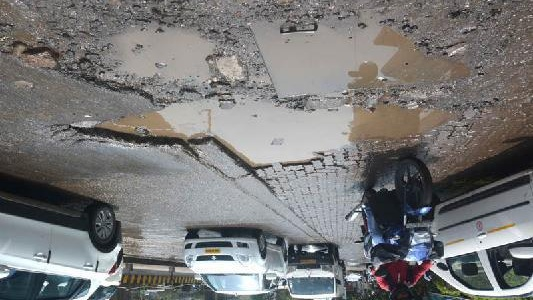pothole: (60, 101, 455, 176), (245, 16, 474, 103), (78, 24, 227, 103)
